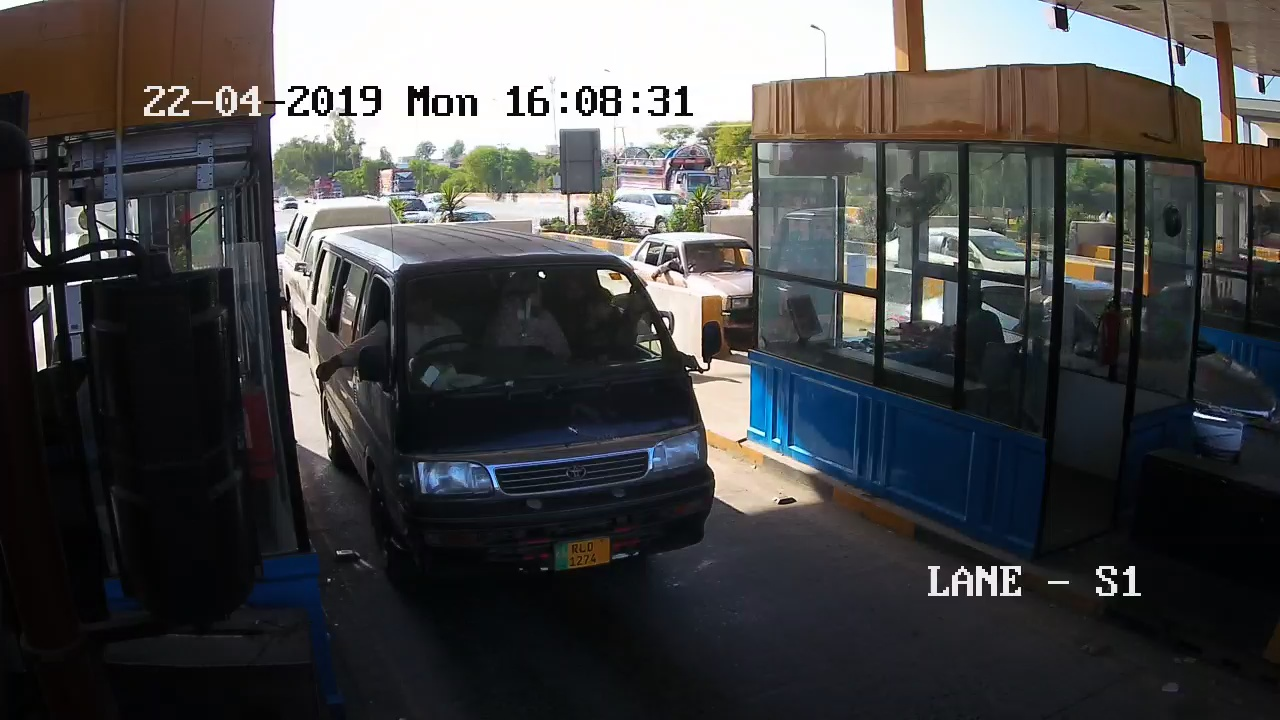Number Plate (Car): (552, 539, 614, 568)
